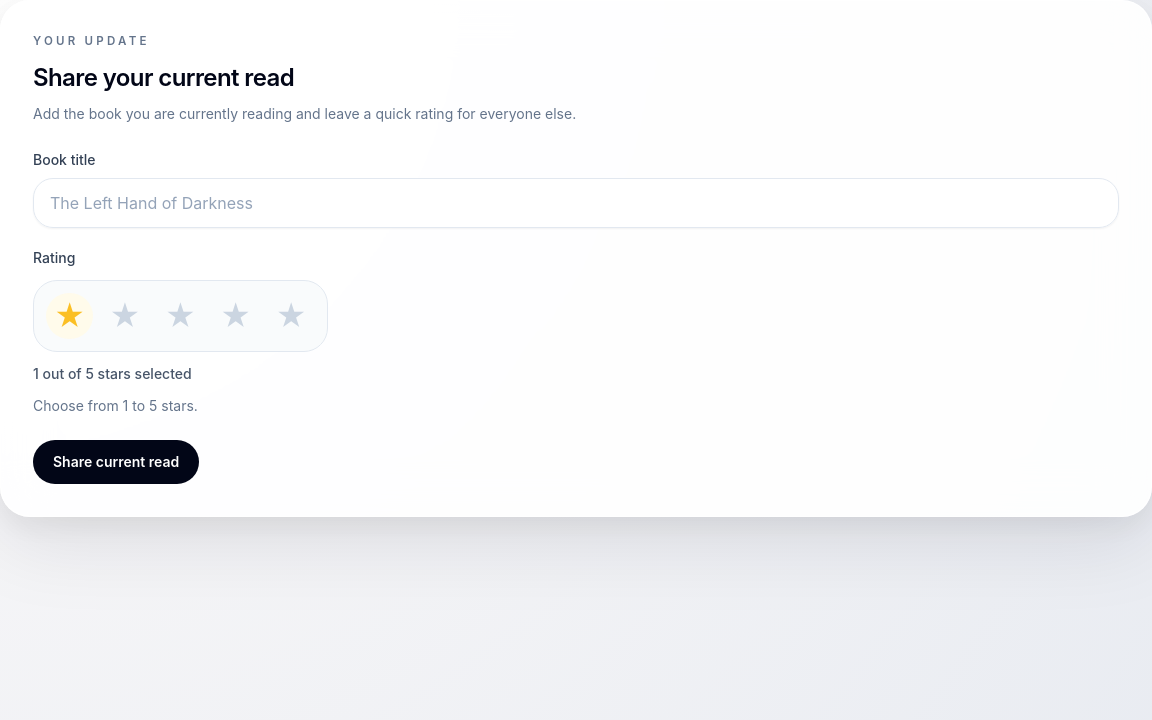
Scenario: CurrentReadingForm › submits trimmed values and shows success text provided by the caller
In the field labelled "Book title": (576,203) [33, 178, 1119, 228], type "  Dune  "
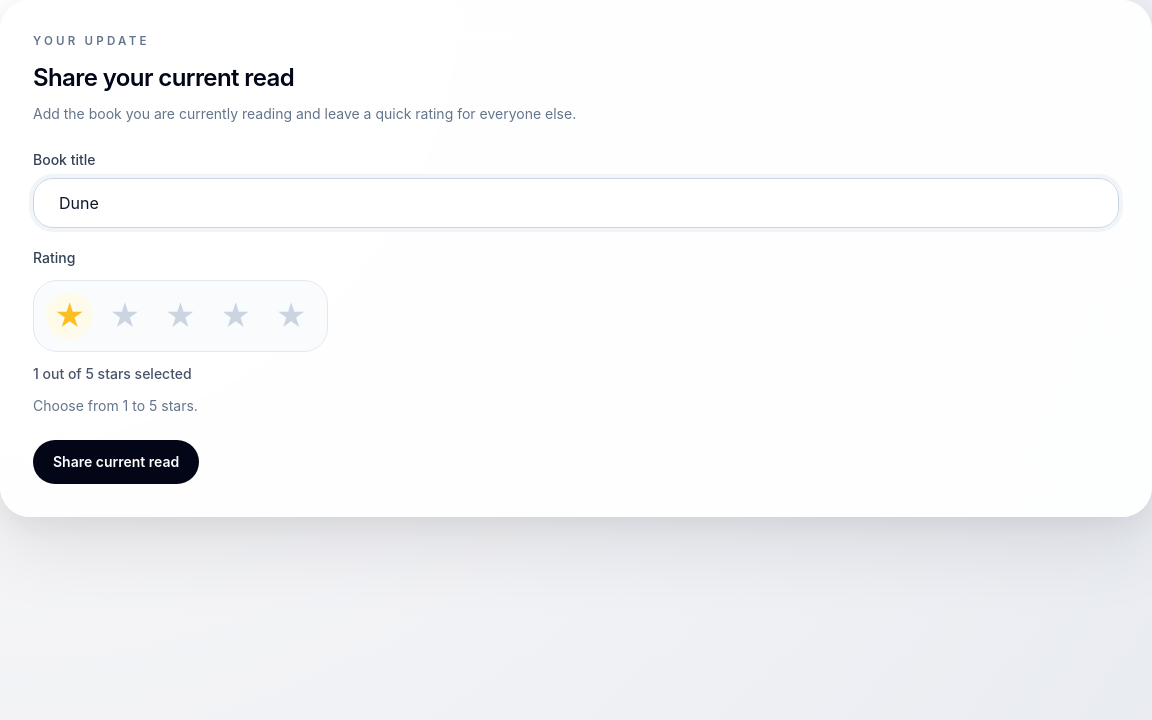
Click the radio button named "5 out of 5 stars": (291,316) [267, 293, 315, 339]
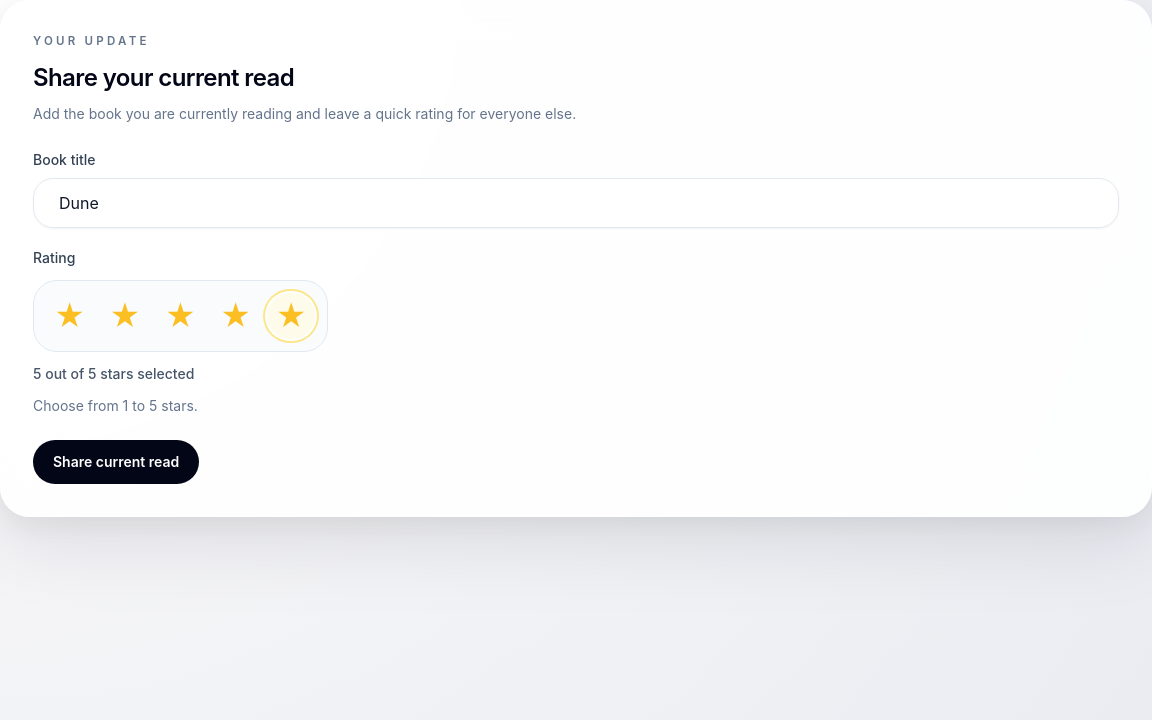
Click the button "Share current read": (116,462) [33, 440, 199, 484]
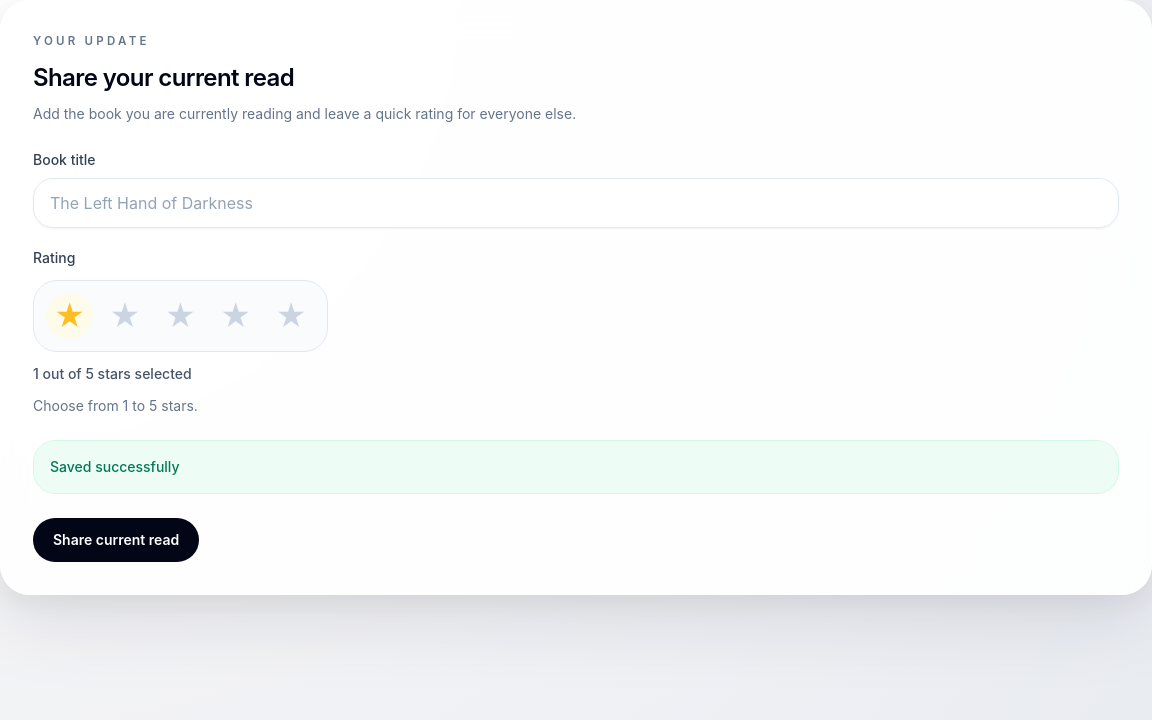
Expected: the text "Saved successfully" is shown, [33, 440, 1119, 494]
Expected: the text "1 out of 5 stars selected" is shown, [33, 365, 192, 382]
